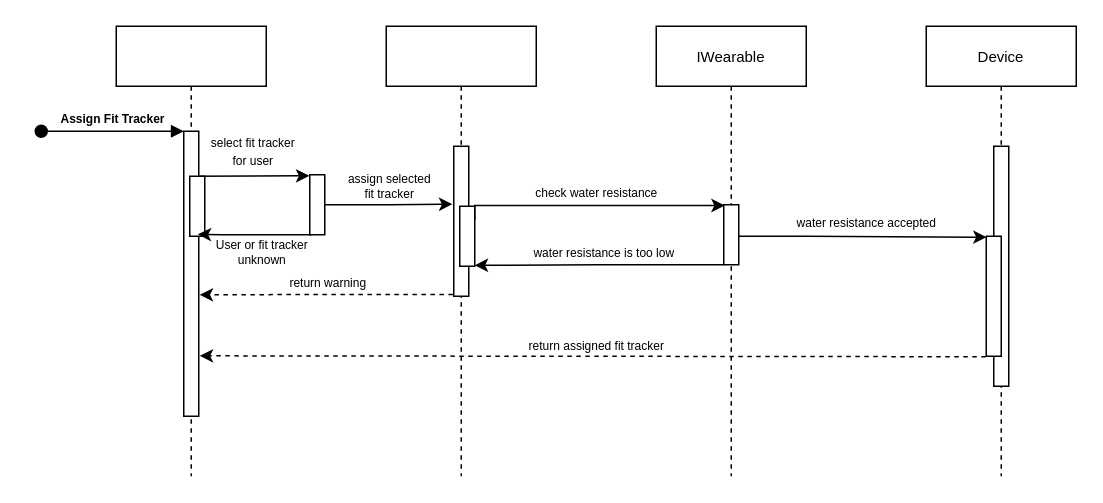
The diagram is 1103 pixels wide and 503 high, and some of its shapes have lost their labels. Here are the shapes that lost their labels. From the top down, the box of each, then its label:
(115, 25, 266, 476): PoloClubAppForm
(385, 25, 536, 476): Club
